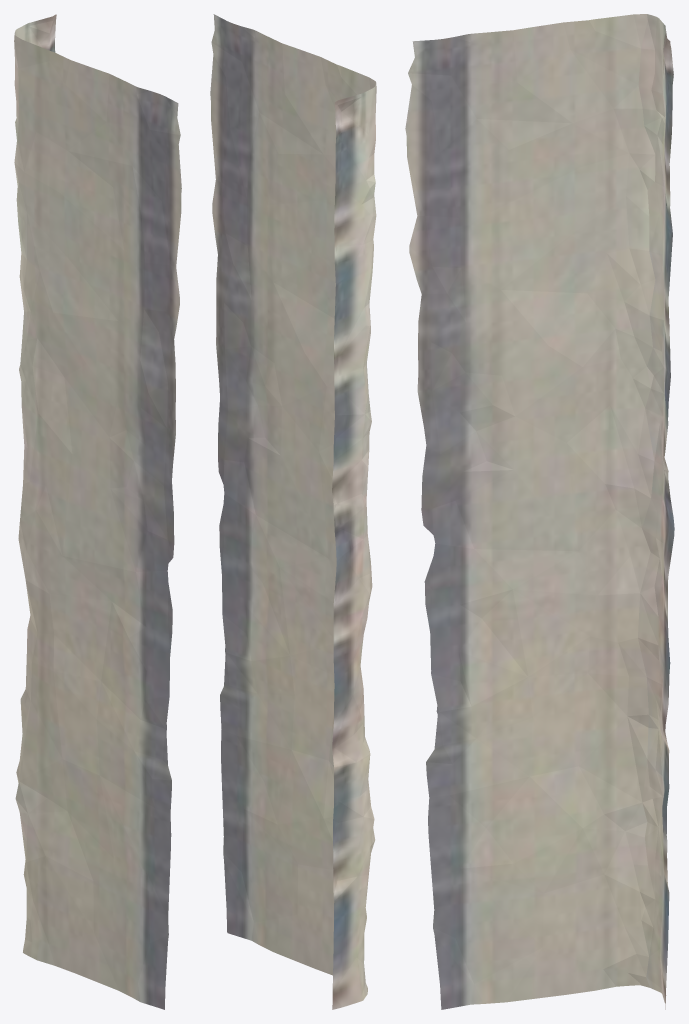
File: Tile_+001_+005_L22_00033100.glb
The picture shows the model from 3 angles, left to right: view 1: azimuth 30°, elevation 25°; view 2: azimuth 210°, elevation 25°; view 3: azimuth 270°, elevation 25°; orthographic projection. The views are drawn at different scales.
Parts seen in each view (by area): view 1: rtc; view 2: rtc; view 3: rtc.
Part boxes in pixels (<box>): rtc: <box>14,14,181,1009</box>; rtc: <box>210,14,376,1009</box>; rtc: <box>405,14,674,1009</box>.
Size of the model in its own units: 0.9489 by 15.67 by 3.95.
Materials: 1 (1 with a texture image).
